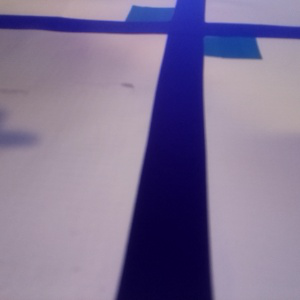bottom_right: (168, 25, 262, 58)
top_left: (124, 5, 204, 31)
